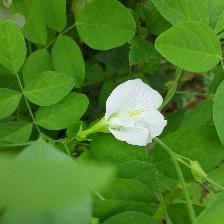shankupushpam: (105, 75, 170, 150)
